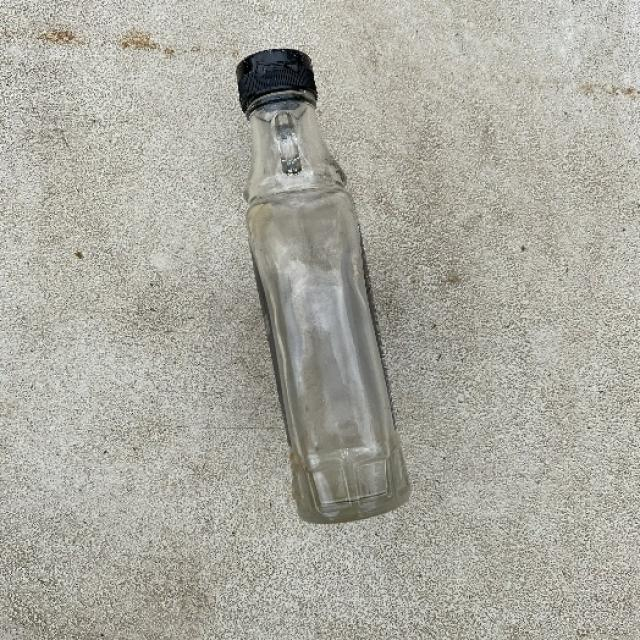kaca: (227, 52, 414, 525)
